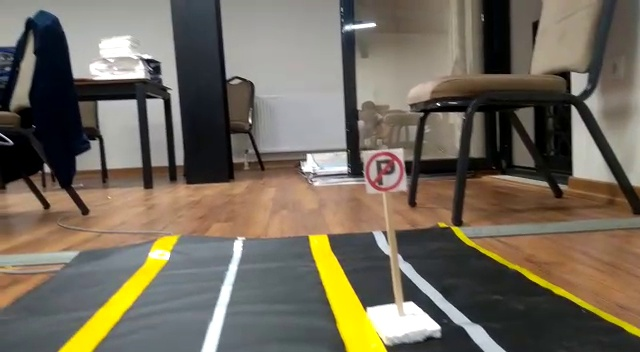park_yapilmaz: (363, 149, 404, 194)
